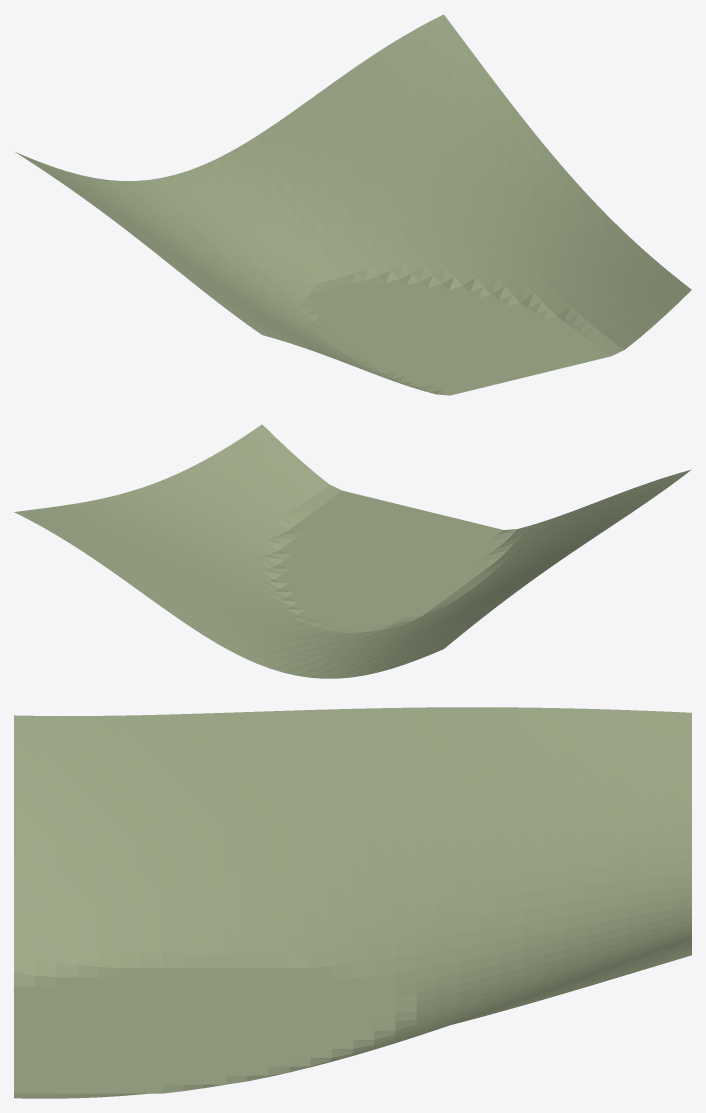
File: expanse-11-20.glb
The picture shows the model from 3 angles, top to bottom: view 1: azimuth 30°, elevation 25°; view 2: azimuth 150°, elevation 25°; view 3: azimuth 270°, elevation 25°; orthographic projection. The views are drawn at different scales.
Parts seen in each view (by area): view 1: expanse-11-20; view 2: expanse-11-20; view 3: expanse-11-20.
Part boxes in pixels (bbox=[...]): expanse-11-20: bbox=[14, 14, 691, 395]; expanse-11-20: bbox=[14, 424, 691, 678]; expanse-11-20: bbox=[14, 707, 691, 1098].
Size of the model in its own units: 256 by 80.02 by 256.
